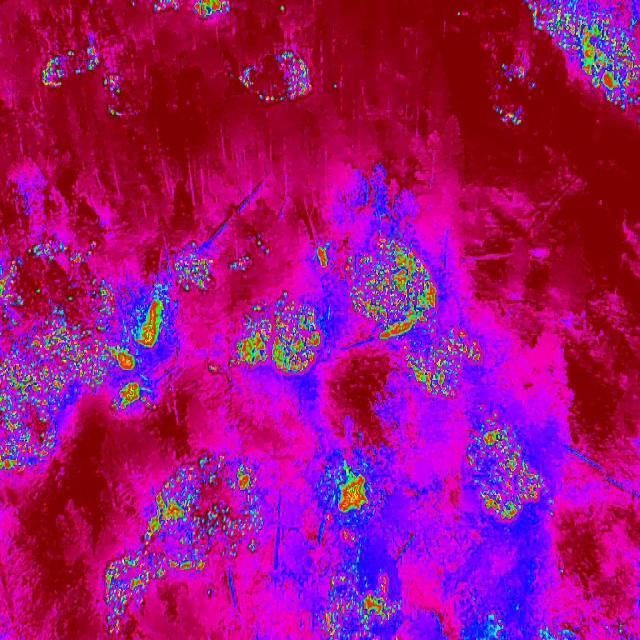fire: (0, 241, 79, 475), (77, 280, 175, 412), (149, 458, 261, 572), (340, 236, 440, 346), (468, 418, 552, 528), (236, 294, 330, 384), (310, 570, 406, 640), (522, 0, 640, 55), (312, 462, 386, 532), (410, 330, 484, 394), (567, 52, 640, 108), (106, 548, 152, 634), (465, 611, 592, 640), (163, 251, 214, 295), (316, 236, 332, 273)
